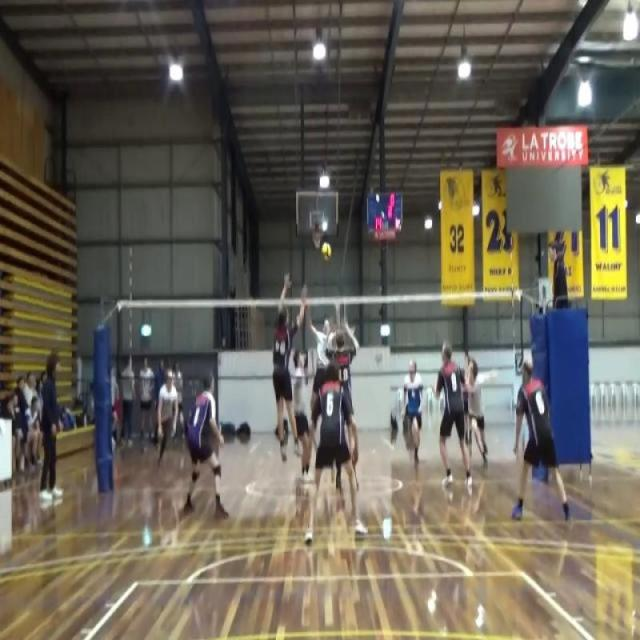volleyball: (320, 242, 332, 262)
